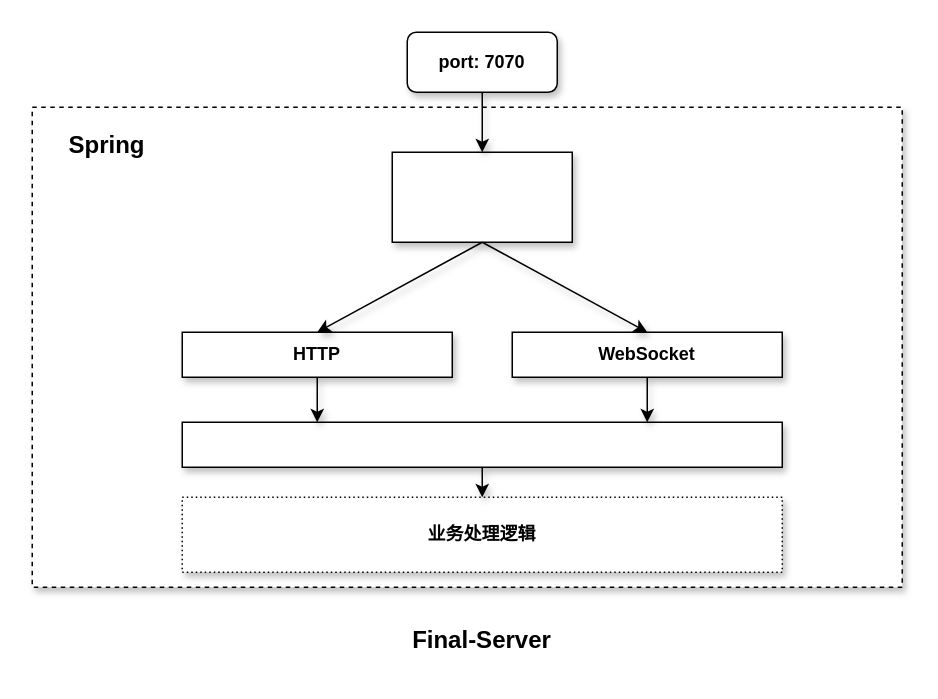
The diagram is 938 pixels wide and 699 high, and some of its shapes have lost their labels. The shapes that lost their labels are listed below. From the top down, each one's centre as x and y in pixels, then its label:
At (483,199): "Netty".
At (483,446): "Dispatch".
